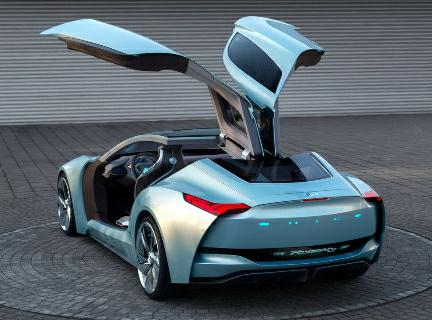别克-Riviera: (52, 130, 395, 304)
